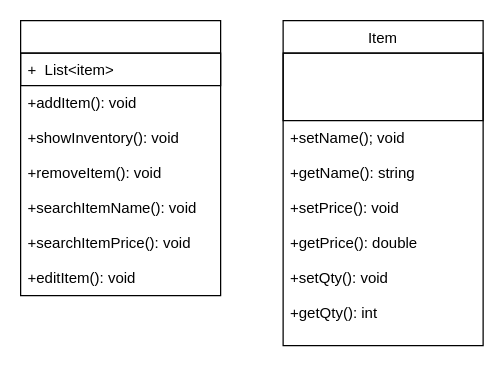
Some shapes in this 504 by 366 pixel diagram are drawn without their labels. Here are the shapes that lost their labels. From the top down, the box of each, then its label:
(282, 52, 483, 121): +name: string +price: double +qyt: int
(19, 19, 221, 296): Inventory Manager
